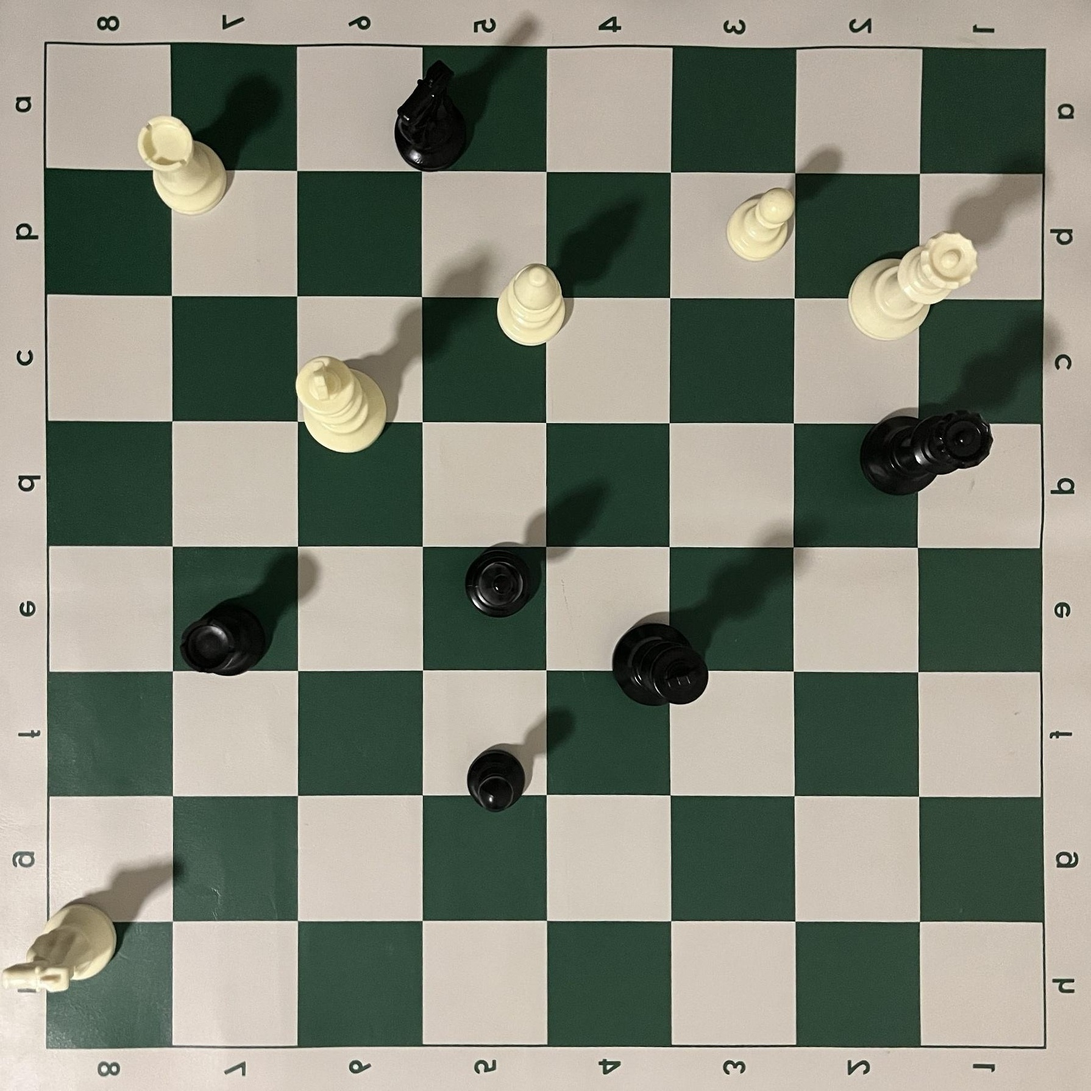black_bishop: (465, 545, 536, 619)
black_king: (613, 620, 710, 706)
black_knight: (394, 59, 469, 172)
black_pawn: (466, 748, 528, 813)
black_queen: (859, 410, 994, 497)
black_rook: (179, 600, 266, 677)
white_bishop: (497, 263, 567, 346)
white_king: (294, 356, 388, 453)
white_knight: (0, 900, 117, 995)
white_pawn: (725, 186, 795, 263)
white_queen: (848, 231, 978, 343)
white_rook: (137, 115, 228, 216)
